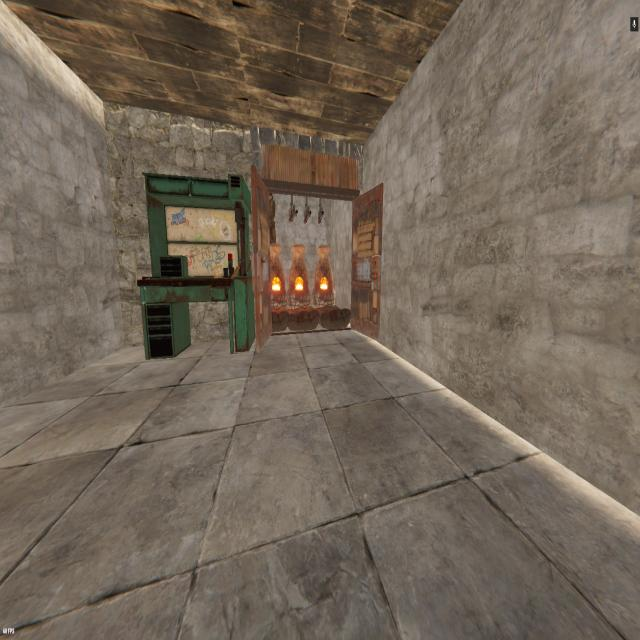Player: (269, 193, 277, 244)
